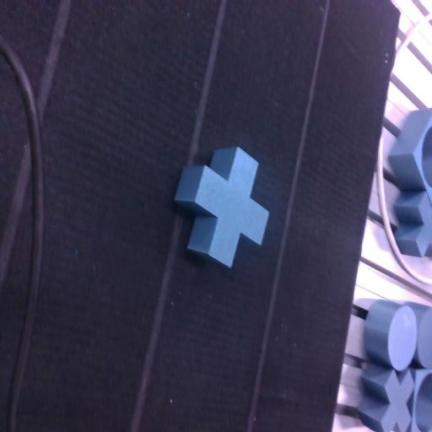cross: (175, 148, 268, 266), (359, 365, 414, 431)
